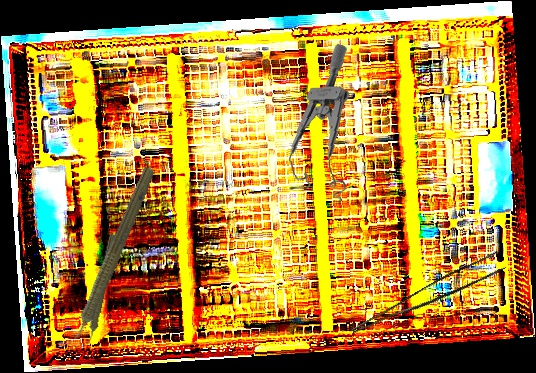Handpiece: (59, 162, 159, 357), (81, 232, 119, 350)
Speculum: (279, 42, 358, 207)
Tissue Forceps: (351, 246, 507, 351)
